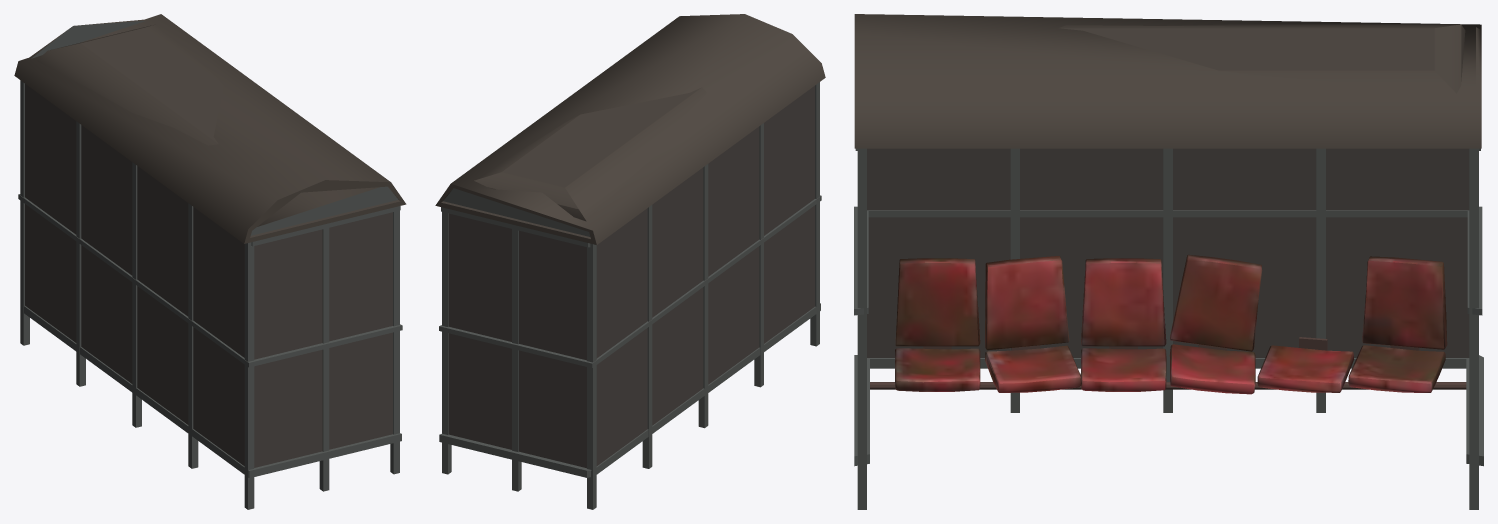
File: tram-shelter.lod0.glb
The picture shows the model from 3 angles, left to right: view 1: azimuth 30°, elevation 25°; view 2: azimuth 150°, elevation 25°; view 3: azimuth 270°, elevation 25°; orthographic projection. The views are drawn at different scales.
Visible parts, largest first — view 1: BusStop_low_base_0; view 2: BusStop_low_base_0; view 3: BusStop_low_base_0, BusStop_low_seat_0.
Boxes of the visible parts, x1,y1,x2,y2 form: BusStop_low_base_0: [14, 14, 406, 509]; BusStop_low_base_0: [435, 14, 825, 509]; BusStop_low_base_0: [854, 14, 1483, 509]; BusStop_low_seat_0: [895, 254, 1447, 394].
Size of the model in its own units: 2.43 by 4.47 by 6.
2 materials, 1 textured.
